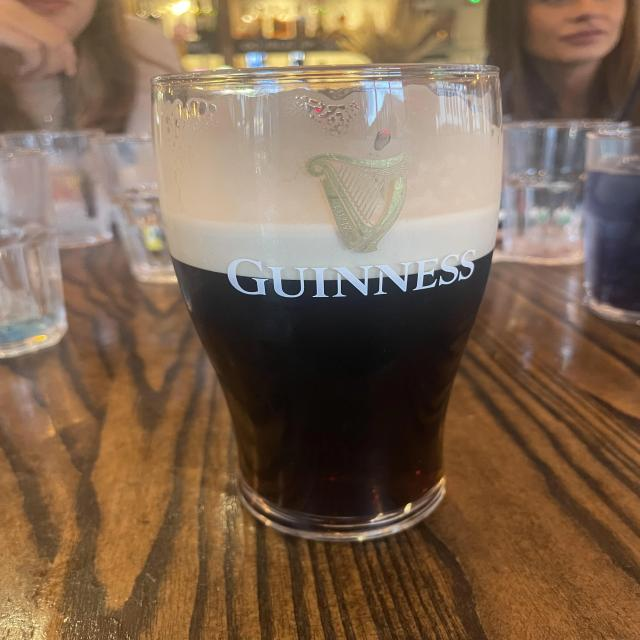split_guiness: (154, 64, 504, 544)
